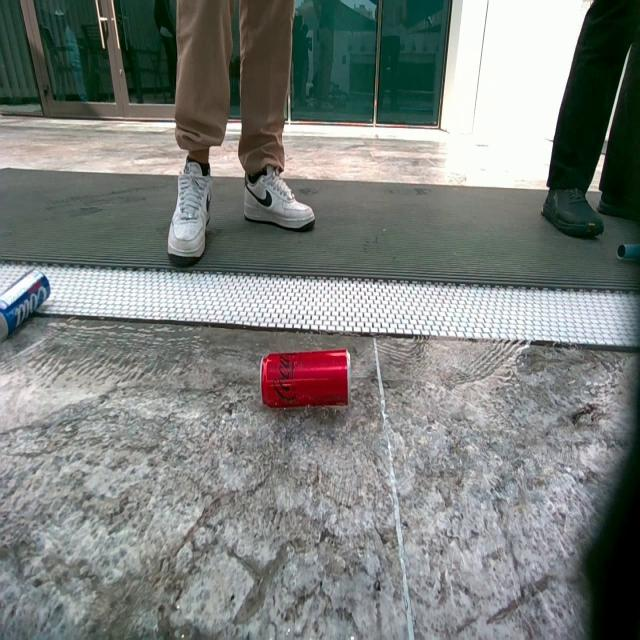Cans: (261, 352, 349, 410), (0, 260, 49, 349)
